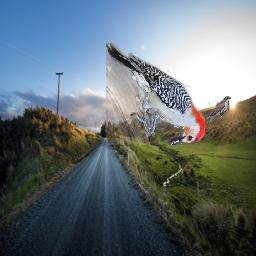Cuckoo: (207, 97, 232, 124)
Woodpecker: (107, 43, 206, 145)
